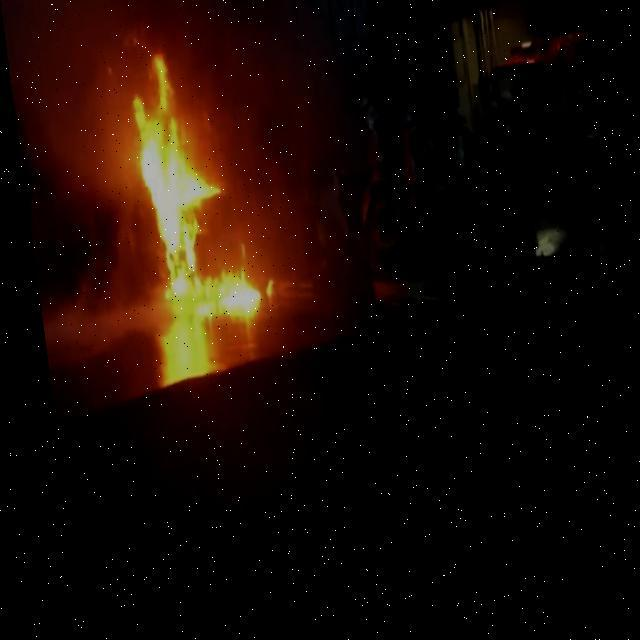Fire: (127, 46, 267, 330)
